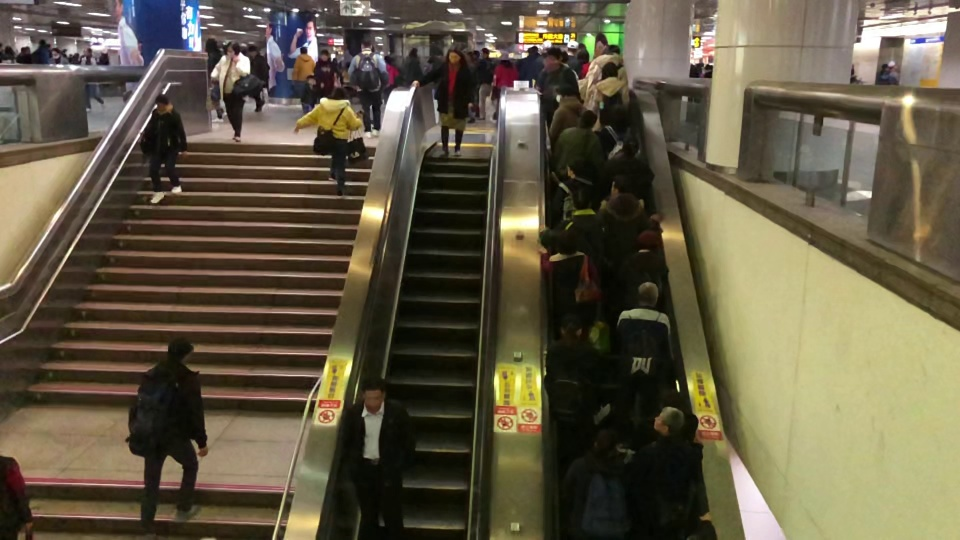person_head: (650, 406, 685, 438), (360, 374, 387, 412), (165, 335, 194, 366), (635, 280, 659, 311), (593, 428, 619, 456), (559, 312, 582, 343), (633, 229, 659, 252), (556, 229, 578, 256), (565, 158, 589, 181), (557, 73, 579, 97), (610, 174, 634, 196), (571, 186, 590, 212), (606, 104, 626, 128), (619, 134, 639, 158), (541, 47, 561, 70), (578, 110, 598, 131), (600, 62, 618, 80), (445, 47, 462, 66), (154, 92, 169, 112), (600, 43, 621, 56), (224, 40, 240, 57), (329, 86, 348, 100), (575, 48, 590, 64), (359, 35, 373, 51), (565, 39, 579, 55), (498, 52, 511, 67), (205, 37, 217, 51), (247, 44, 259, 58), (527, 45, 539, 58), (320, 48, 329, 63), (465, 50, 474, 65), (541, 39, 551, 52), (51, 47, 61, 59), (560, 51, 569, 64), (305, 75, 316, 85), (408, 47, 419, 57), (479, 47, 489, 58), (4, 45, 13, 57), (887, 60, 896, 71), (83, 47, 92, 57), (299, 46, 308, 56), (38, 38, 46, 48), (703, 63, 713, 71), (426, 56, 435, 64), (689, 63, 697, 72), (384, 55, 391, 64)
person_vbox: (134, 335, 209, 540), (341, 373, 417, 540), (611, 280, 675, 455), (623, 406, 704, 540), (542, 312, 604, 480), (558, 428, 633, 540), (293, 85, 363, 196), (408, 47, 474, 158), (536, 229, 602, 325), (137, 92, 188, 205), (608, 228, 669, 311), (539, 185, 606, 253), (209, 40, 251, 142), (348, 34, 388, 139), (533, 46, 580, 131), (597, 174, 663, 233), (599, 134, 655, 202), (552, 109, 606, 178), (551, 158, 601, 225), (548, 73, 592, 147), (577, 43, 630, 101), (585, 62, 630, 129), (0, 454, 34, 540), (597, 104, 636, 154), (491, 52, 519, 121), (202, 37, 223, 119), (80, 47, 105, 113), (247, 44, 269, 112), (476, 47, 494, 121), (291, 46, 316, 99), (517, 44, 544, 88), (312, 48, 335, 99), (300, 75, 325, 115), (398, 46, 423, 86), (464, 50, 477, 125), (382, 54, 399, 105), (565, 39, 582, 80), (560, 51, 579, 80), (575, 48, 591, 79), (30, 38, 49, 63), (687, 63, 698, 102), (883, 59, 898, 85), (49, 47, 71, 63), (1, 45, 16, 63), (423, 56, 435, 75), (701, 63, 713, 79)
